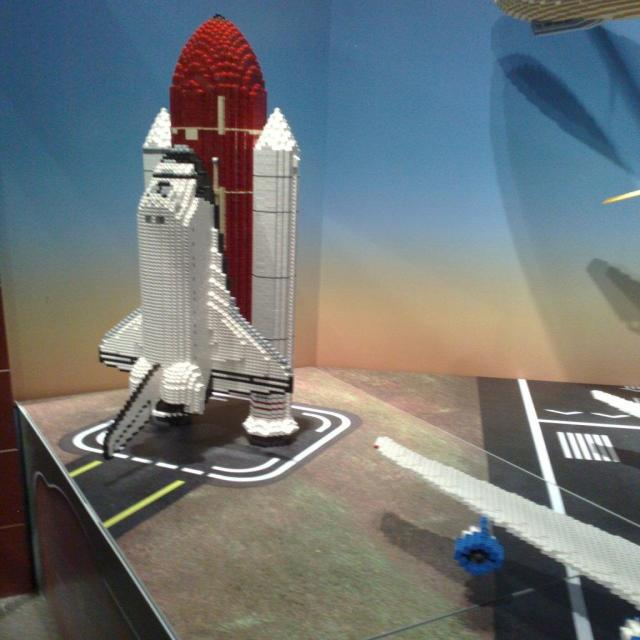Table: (58, 364, 551, 628)
